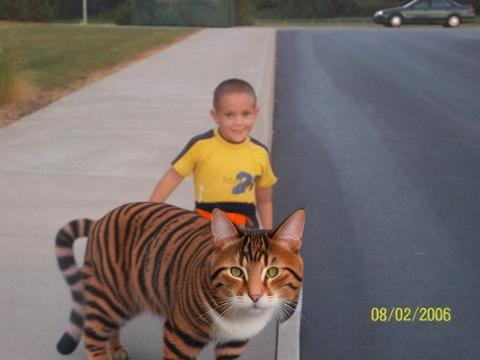car: (374, 1, 477, 29)
cat: (55, 201, 306, 360)
person: (139, 78, 278, 330)
